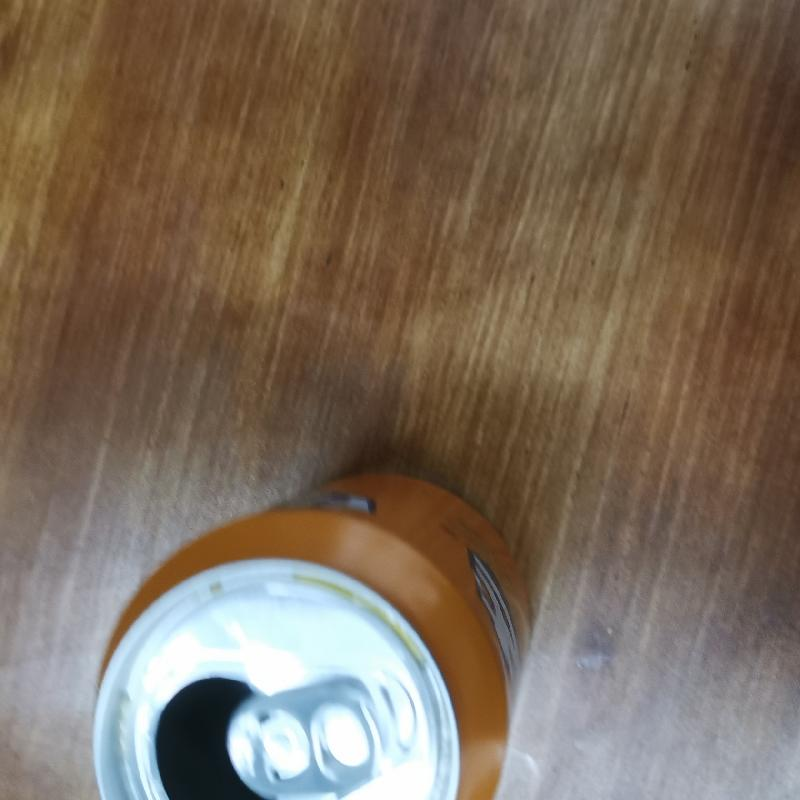cans: (78, 448, 542, 800)
